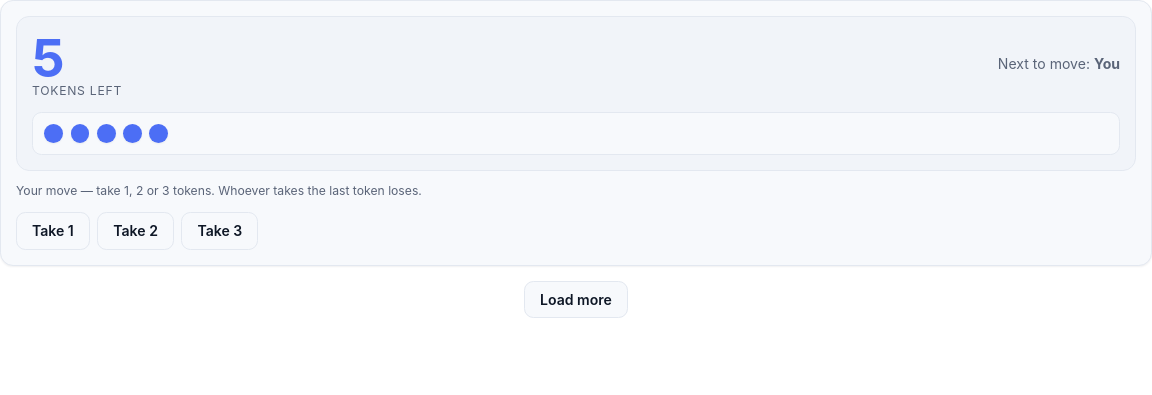
TrainingPackFeed: entries and attempts › submits an attempt and reveals the pass/fail result
Click the button with test id "puzzle-take-3".
click(220, 231)  # box 181,212 -> 258,250
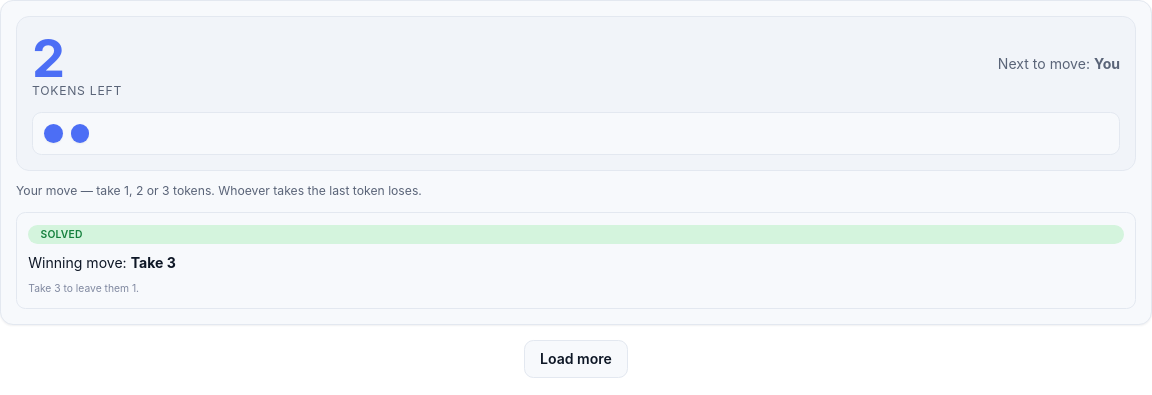
Result: the element with test id "training-result" shows "Solved" at 40,228 -> 83,240
Result: the element with test id "training-result" shows "Take 3" at 131,254 -> 176,271
Result: the element with test id "training-result" shows "Take 3 to leave them 1." at 28,282 -> 139,294
